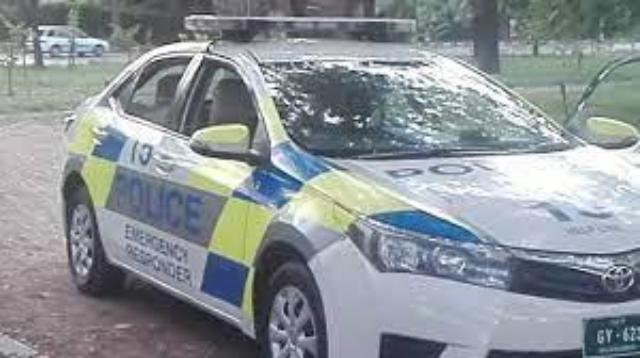police_car: (66, 10, 640, 358)
